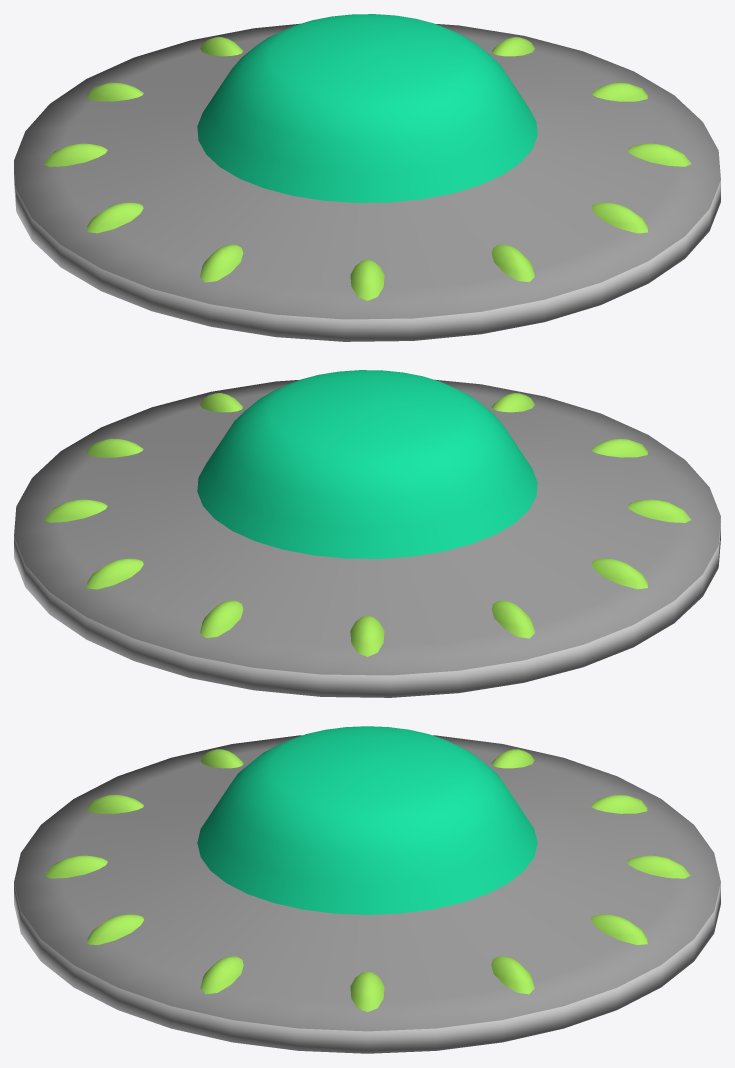
File: ufo.fbx
3 views of the same model, one above another, from view 1: azimuth 30°, elevation 25°; view 2: azimuth 150°, elevation 25°; view 3: azimuth 270°, elevation 25° (orthographic).
Parts seen in each view (by area): view 1: ufo, ufo.001; view 2: ufo, ufo.001; view 3: ufo, ufo.001.
Boxes of the visible parts, box(x1,y1,x2,y2) form: ufo: box(14, 23, 720, 341); ufo.001: box(197, 14, 537, 202); ufo: box(14, 379, 720, 697); ufo.001: box(197, 370, 537, 558); ufo: box(14, 735, 720, 1053); ufo.001: box(197, 726, 537, 914).
Size of the model in its own units: 2.5 by 0.7345 by 2.5.
